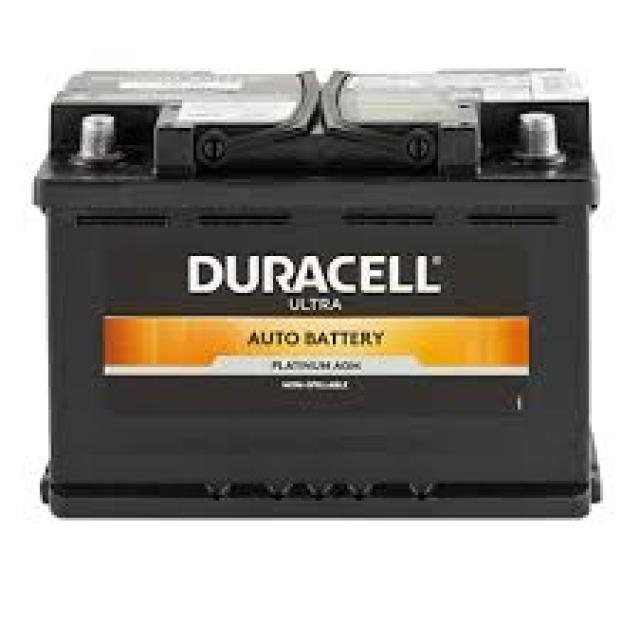Battery: (21, 38, 626, 565)
